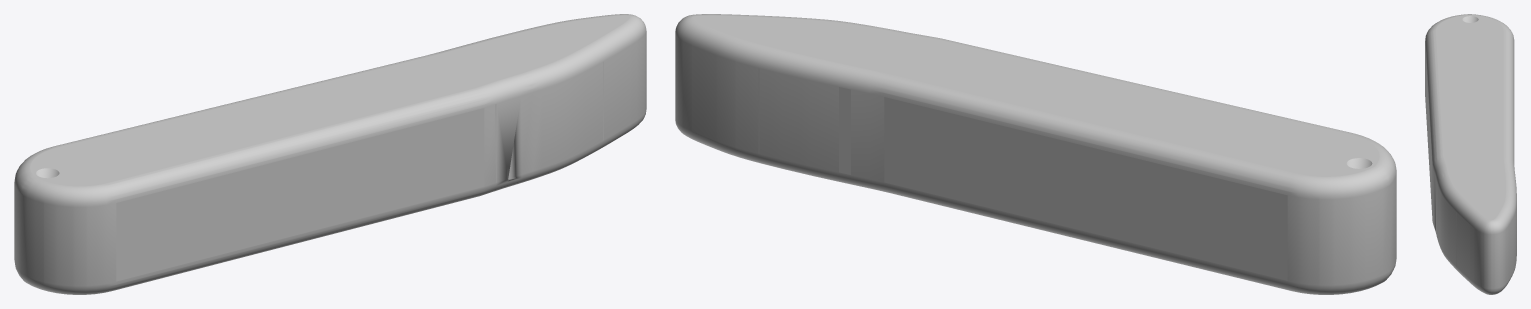
The model's file is mico_link_finger_1.dae.
3 renders of one model, left to right at view 1: azimuth 30°, elevation 25°; view 2: azimuth 150°, elevation 25°; view 3: azimuth 270°, elevation 25°, orthographic. The views are drawn at different scales.
Parts seen in each view (by area): view 1: Actor0; view 2: Actor0; view 3: Actor0.
Part boxes in pixels (x1=…): Actor0: x1=14, y1=14, x2=646, y2=294; Actor0: x1=675, y1=14, x2=1396, y2=294; Actor0: x1=1425, y1=14, x2=1516, y2=294.
Size of the model in its own units: 0.1188 by 0.0191 by 0.0215.
Materials: 1 (1 with a texture image).
